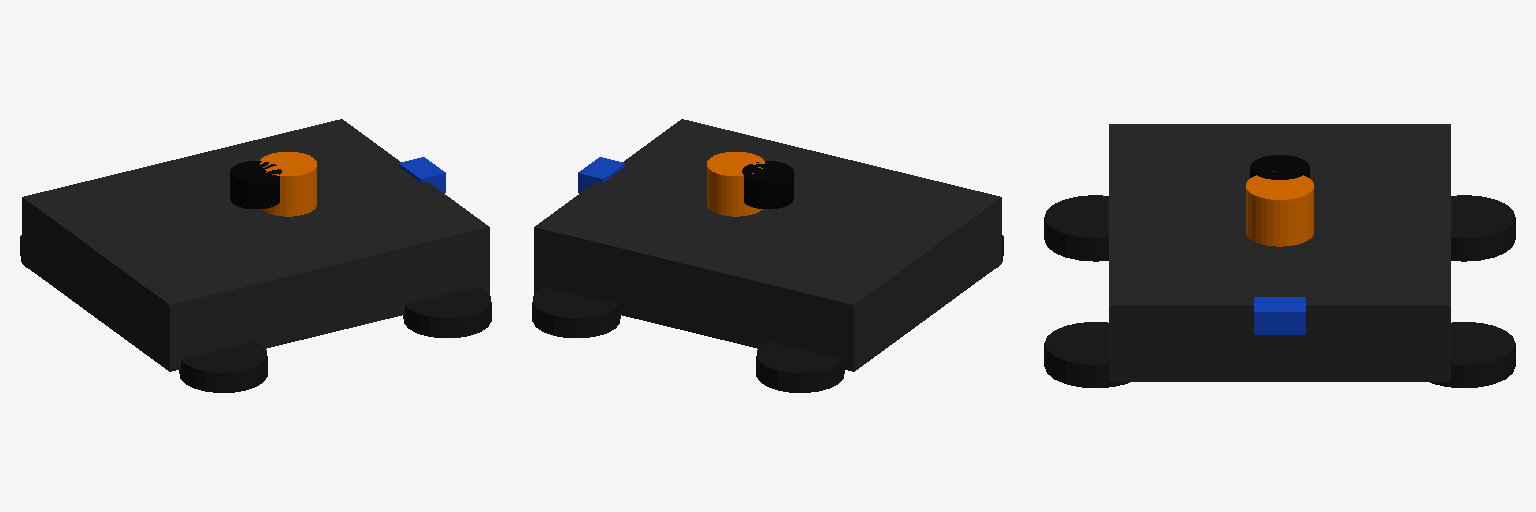
The robot description file, URDF, robot "omni_base":
<?xml version="1.0"?>
<!--
  urdf/base/base.urdf
  4-omniwheel mobile base with LiDAR, camera, and arm-mount.

  Visual geometry uses mesh files from assets/meshes/:
    base_chassis.obj  — chassis body
    omni_wheel.obj    — each of the 4 wheels

  Collision geometry always uses primitives (faster).
  If mesh files are missing PyBullet silently falls back to nothing visible;
  collision and physics still work correctly.

  Standalone wheel definition: see urdf/base/wheel.urdf
-->
<robot name="omni_base">

  <!-- ── Base chassis ─────────────────────────────────────────── -->
  <link name="base_link">
    <inertial>
      <mass value="8.0"/>
      <origin xyz="0 0 0" rpy="0 0 0"/>
      <inertia ixx="0.15" ixy="0" ixz="0"
               iyy="0.15" iyz="0"
               izz="0.25"/>
    </inertial>
    <visual>
      <origin xyz="0 0 0" rpy="0 0 0"/>
      <geometry>
        <mesh filename="../../assets/meshes/base_chassis.obj" scale="1 1 1"/>
      </geometry>
      <material name="chassis_dark">
        <color rgba="0.18 0.18 0.18 1.0"/>
      </material>
    </visual>
    <collision>
      <origin xyz="0 0 0" rpy="0 0 0"/>
      <geometry><box size="0.50 0.40 0.10"/></geometry>
    </collision>
  </link>

  <!-- ── LiDAR ────────────────────────────────────────────────── -->
  <link name="lidar_link">
    <inertial>
      <mass value="0.1"/>
      <origin xyz="0 0 0" rpy="0 0 0"/>
      <inertia ixx="0.0001" ixy="0" ixz="0"
               iyy="0.0001" iyz="0"
               izz="0.0001"/>
    </inertial>
    <visual>
      <origin xyz="0 0 0" rpy="0 0 0"/>
      <geometry><cylinder radius="0.035" length="0.04"/></geometry>
      <material name="sensor_black"><color rgba="0.05 0.05 0.05 1.0"/></material>
    </visual>
  </link>
  <joint name="lidar_joint" type="fixed">
    <parent link="base_link"/>
    <child  link="lidar_link"/>
    <origin xyz="0 0 0.09" rpy="0 0 0"/>
  </joint>

  <!-- ── Camera ───────────────────────────────────────────────── -->
  <link name="camera_link">
    <inertial>
      <mass value="0.05"/>
      <origin xyz="0 0 0" rpy="0 0 0"/>
      <inertia ixx="0.00001" ixy="0" ixz="0"
               iyy="0.00001" iyz="0"
               izz="0.00001"/>
    </inertial>
    <visual>
      <origin xyz="0 0 0" rpy="0 0 0"/>
      <geometry><box size="0.04 0.06 0.03"/></geometry>
      <material name="camera_blue"><color rgba="0.1 0.3 0.8 1.0"/></material>
    </visual>
  </link>
  <joint name="camera_joint" type="fixed">
    <parent link="base_link"/>
    <child  link="camera_link"/>
    <origin xyz="0.26 0 0.04" rpy="0 0 0"/>
  </joint>

  <!-- ── Wheel FL ──────────────────────────────────────────────── -->
  <link name="wheel_fl">
    <inertial>
      <mass value="0.5"/>
      <origin xyz="0 0 0" rpy="0 0 0"/>
      <inertia ixx="0.000477" ixy="0" ixz="0"
               iyy="0.000900" iyz="0"
               izz="0.000477"/>
    </inertial>
    <visual>
      <origin xyz="0 0 0" rpy="1.5708 0 0"/>
      <geometry>
        <mesh filename="../../assets/meshes/omni_wheel.obj" scale="1 1 1"/>
      </geometry>
      <material name="wheel_rubber"><color rgba="0.12 0.12 0.12 1.0"/></material>
    </visual>
    <collision>
      <origin xyz="0 0 0" rpy="1.5708 0 0"/>
      <geometry><cylinder radius="0.06" length="0.03"/></geometry>
    </collision>
  </link>
  <joint name="joint_wheel_fl" type="continuous">
    <parent link="base_link"/>
    <child  link="wheel_fl"/>
    <origin xyz=" 0.175  0.215 -0.05" rpy="0 0 0"/>
    <axis xyz="0 1 0"/>
    <dynamics damping="0.01" friction="0.0"/>
  </joint>

  <!-- ── Wheel FR ──────────────────────────────────────────────── -->
  <link name="wheel_fr">
    <inertial>
      <mass value="0.5"/>
      <origin xyz="0 0 0" rpy="0 0 0"/>
      <inertia ixx="0.000477" ixy="0" ixz="0"
               iyy="0.000900" iyz="0"
               izz="0.000477"/>
    </inertial>
    <visual>
      <origin xyz="0 0 0" rpy="1.5708 0 0"/>
      <geometry>
        <mesh filename="../../assets/meshes/omni_wheel.obj" scale="1 1 1"/>
      </geometry>
      <material name="wheel_rubber"><color rgba="0.12 0.12 0.12 1.0"/></material>
    </visual>
    <collision>
      <origin xyz="0 0 0" rpy="1.5708 0 0"/>
      <geometry><cylinder radius="0.06" length="0.03"/></geometry>
    </collision>
  </link>
  <joint name="joint_wheel_fr" type="continuous">
    <parent link="base_link"/>
    <child  link="wheel_fr"/>
    <origin xyz=" 0.175 -0.215 -0.05" rpy="0 0 0"/>
    <axis xyz="0 1 0"/>
    <dynamics damping="0.01" friction="0.0"/>
  </joint>

  <!-- ── Wheel RL ──────────────────────────────────────────────── -->
  <link name="wheel_rl">
    <inertial>
      <mass value="0.5"/>
      <origin xyz="0 0 0" rpy="0 0 0"/>
      <inertia ixx="0.000477" ixy="0" ixz="0"
               iyy="0.000900" iyz="0"
               izz="0.000477"/>
    </inertial>
    <visual>
      <origin xyz="0 0 0" rpy="1.5708 0 0"/>
      <geometry>
        <mesh filename="../../assets/meshes/omni_wheel.obj" scale="1 1 1"/>
      </geometry>
      <material name="wheel_rubber"><color rgba="0.12 0.12 0.12 1.0"/></material>
    </visual>
    <collision>
      <origin xyz="0 0 0" rpy="1.5708 0 0"/>
      <geometry><cylinder radius="0.06" length="0.03"/></geometry>
    </collision>
  </link>
  <joint name="joint_wheel_rl" type="continuous">
    <parent link="base_link"/>
    <child  link="wheel_rl"/>
    <origin xyz="-0.175  0.215 -0.05" rpy="0 0 0"/>
    <axis xyz="0 1 0"/>
    <dynamics damping="0.01" friction="0.0"/>
  </joint>

  <!-- ── Wheel RR ──────────────────────────────────────────────── -->
  <link name="wheel_rr">
    <inertial>
      <mass value="0.5"/>
      <origin xyz="0 0 0" rpy="0 0 0"/>
      <inertia ixx="0.000477" ixy="0" ixz="0"
               iyy="0.000900" iyz="0"
               izz="0.000477"/>
    </inertial>
    <visual>
      <origin xyz="0 0 0" rpy="1.5708 0 0"/>
      <geometry>
        <mesh filename="../../assets/meshes/omni_wheel.obj" scale="1 1 1"/>
      </geometry>
      <material name="wheel_rubber"><color rgba="0.12 0.12 0.12 1.0"/></material>
    </visual>
    <collision>
      <origin xyz="0 0 0" rpy="1.5708 0 0"/>
      <geometry><cylinder radius="0.06" length="0.03"/></geometry>
    </collision>
  </link>
  <joint name="joint_wheel_rr" type="continuous">
    <parent link="base_link"/>
    <child  link="wheel_rr"/>
    <origin xyz="-0.175 -0.215 -0.05" rpy="0 0 0"/>
    <axis xyz="0 1 0"/>
    <dynamics damping="0.01" friction="0.0"/>
  </joint>

  <!-- ── Arm mount ─────────────────────────────────────────────── -->
  <link name="arm_mount">
    <inertial>
      <mass value="0.2"/>
      <origin xyz="0 0 0" rpy="0 0 0"/>
      <inertia ixx="0.001" ixy="0" ixz="0"
               iyy="0.001" iyz="0"
               izz="0.001"/>
    </inertial>
    <visual>
      <origin xyz="0 0 0" rpy="0 0 0"/>
      <geometry><cylinder radius="0.04" length="0.06"/></geometry>
      <material name="mount_orange"><color rgba="0.9 0.45 0.0 1.0"/></material>
    </visual>
  </link>
  <joint name="arm_mount_joint" type="fixed">
    <parent link="base_link"/>
    <child  link="arm_mount"/>
    <origin xyz="0.05 0 0.08" rpy="0 0 0"/>
  </joint>

</robot>

--- Render facts (derived) ---
Views: 3 orthographic renders of the robot side by side, from view 1: azimuth 30°, elevation 25°; view 2: azimuth 150°, elevation 25°; view 3: azimuth 270°, elevation 25°.
Model omni_base with 8 links and 7 joints (4 continuous, 3 fixed), rooted at base_link, posed every joint at zero.
Visible links, largest first — view 1: base_link, wheel_rr, wheel_fr, arm_mount, lidar_link, camera_link; view 2: base_link, wheel_rl, wheel_fl, arm_mount, lidar_link, camera_link; view 3: base_link, arm_mount, wheel_fl, wheel_fr, wheel_rl, wheel_rr, camera_link, lidar_link.
Link boxes in pixels (x1,y1,x2,y2): base_link: (22, 119, 489, 371); wheel_rr: (179, 341, 267, 392); wheel_fr: (403, 287, 491, 337); arm_mount: (260, 152, 316, 216); lidar_link: (230, 161, 281, 209); camera_link: (399, 157, 445, 193); base_link: (534, 119, 1001, 371); wheel_rl: (756, 341, 844, 392); wheel_fl: (532, 287, 620, 337); arm_mount: (707, 152, 764, 216); lidar_link: (742, 161, 793, 209); camera_link: (578, 157, 624, 193); base_link: (1109, 124, 1450, 381); arm_mount: (1246, 171, 1313, 246); wheel_fl: (1430, 322, 1515, 387); wheel_fr: (1044, 322, 1129, 387); wheel_rl: (1451, 195, 1515, 261); wheel_rr: (1044, 195, 1108, 261); camera_link: (1254, 297, 1305, 334); lidar_link: (1250, 155, 1309, 179).
Size in the robot's own frame: 0.53 by 0.55 by 0.175 metres.
Meshes: 2 distinct files referenced, 5 mesh visuals loaded (2 OBJ).
